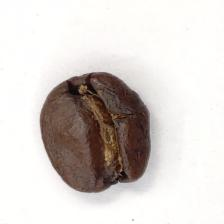NG: (65, 75, 131, 186)
